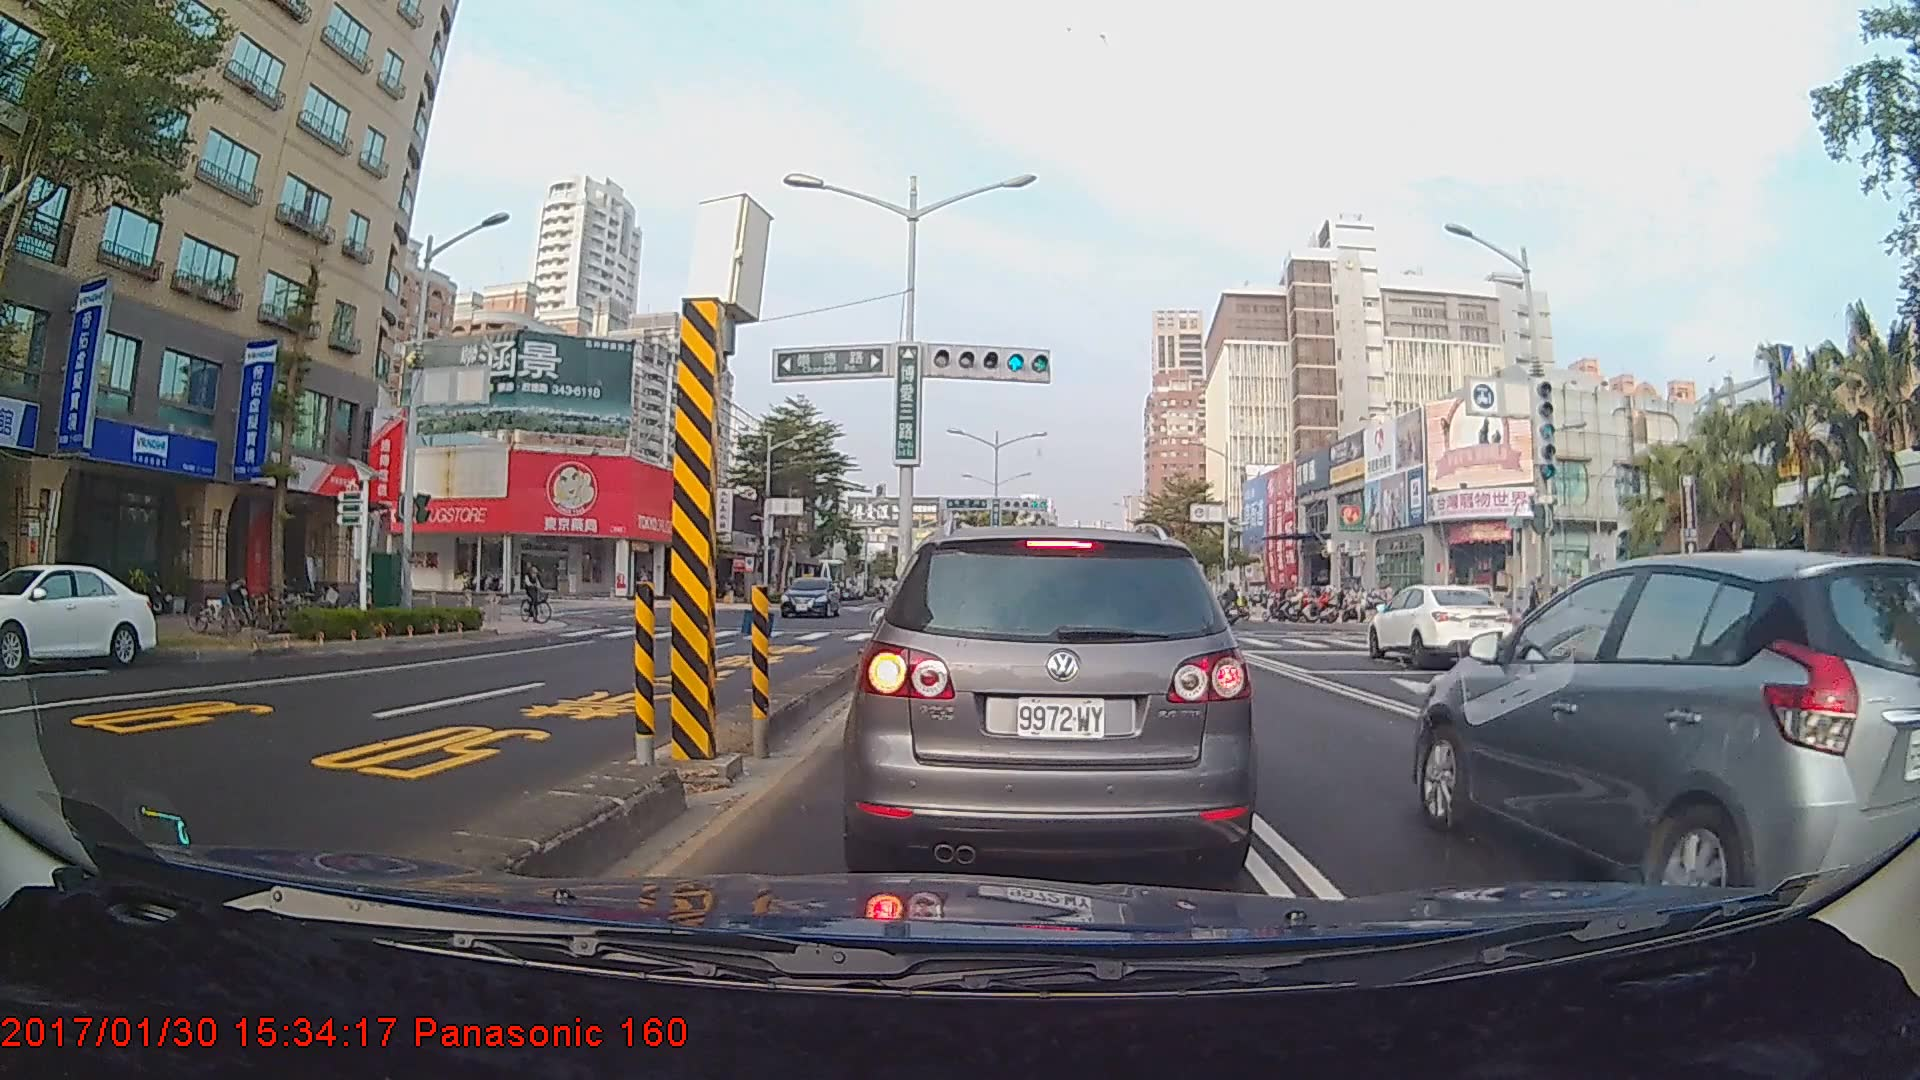rider: (518, 559, 561, 629)
vehicle: (1410, 547, 1919, 889), (852, 522, 1250, 882), (0, 561, 157, 671), (1363, 584, 1508, 671), (780, 573, 841, 620)
